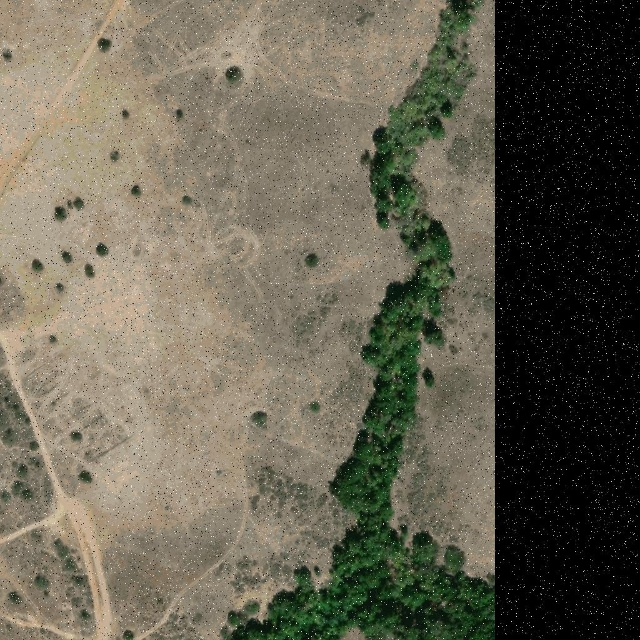vegetation: (220, 0, 496, 640)
